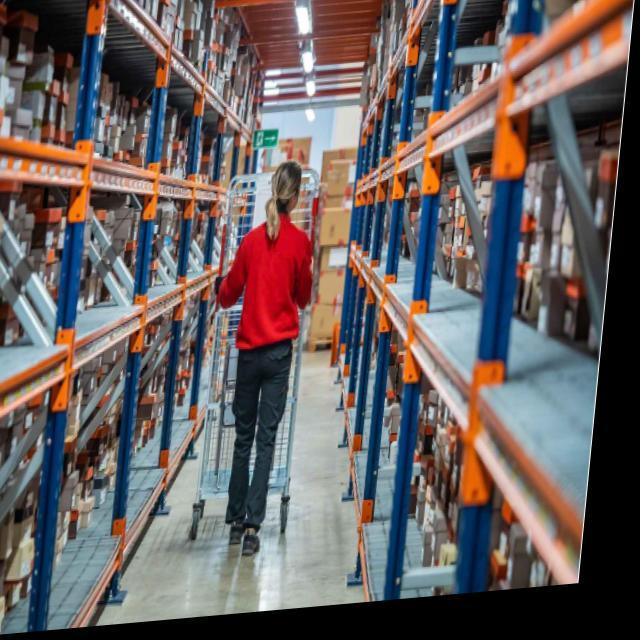shoes: (225, 513, 266, 562)
